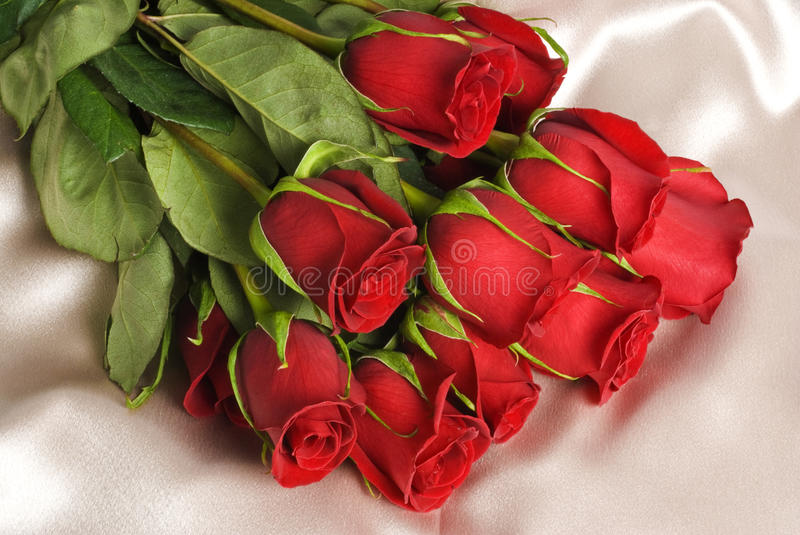RedRose: (448, 192, 671, 388), (513, 100, 740, 287), (294, 27, 522, 145), (266, 182, 401, 330), (396, 310, 542, 432), (357, 345, 510, 456), (239, 313, 340, 465), (458, 21, 574, 106)
